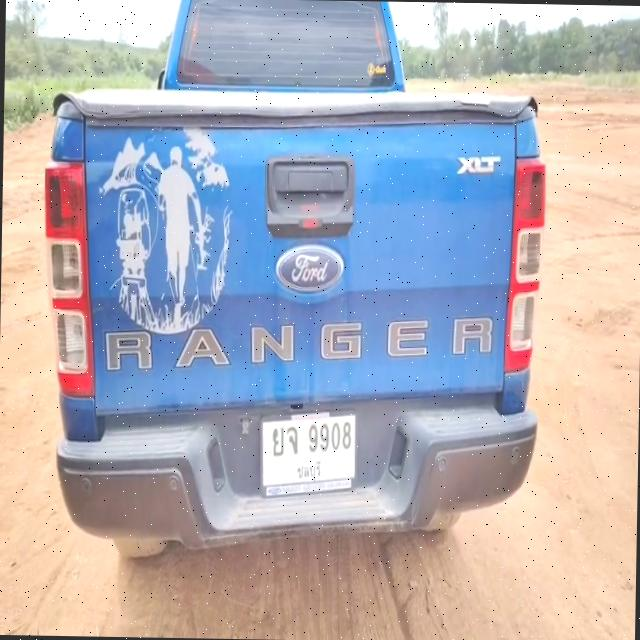Digit: (306, 416, 354, 455)
Licenseplate: (256, 409, 358, 498)
Provincename: (296, 458, 323, 485)
Thaichar: (271, 424, 299, 459)
